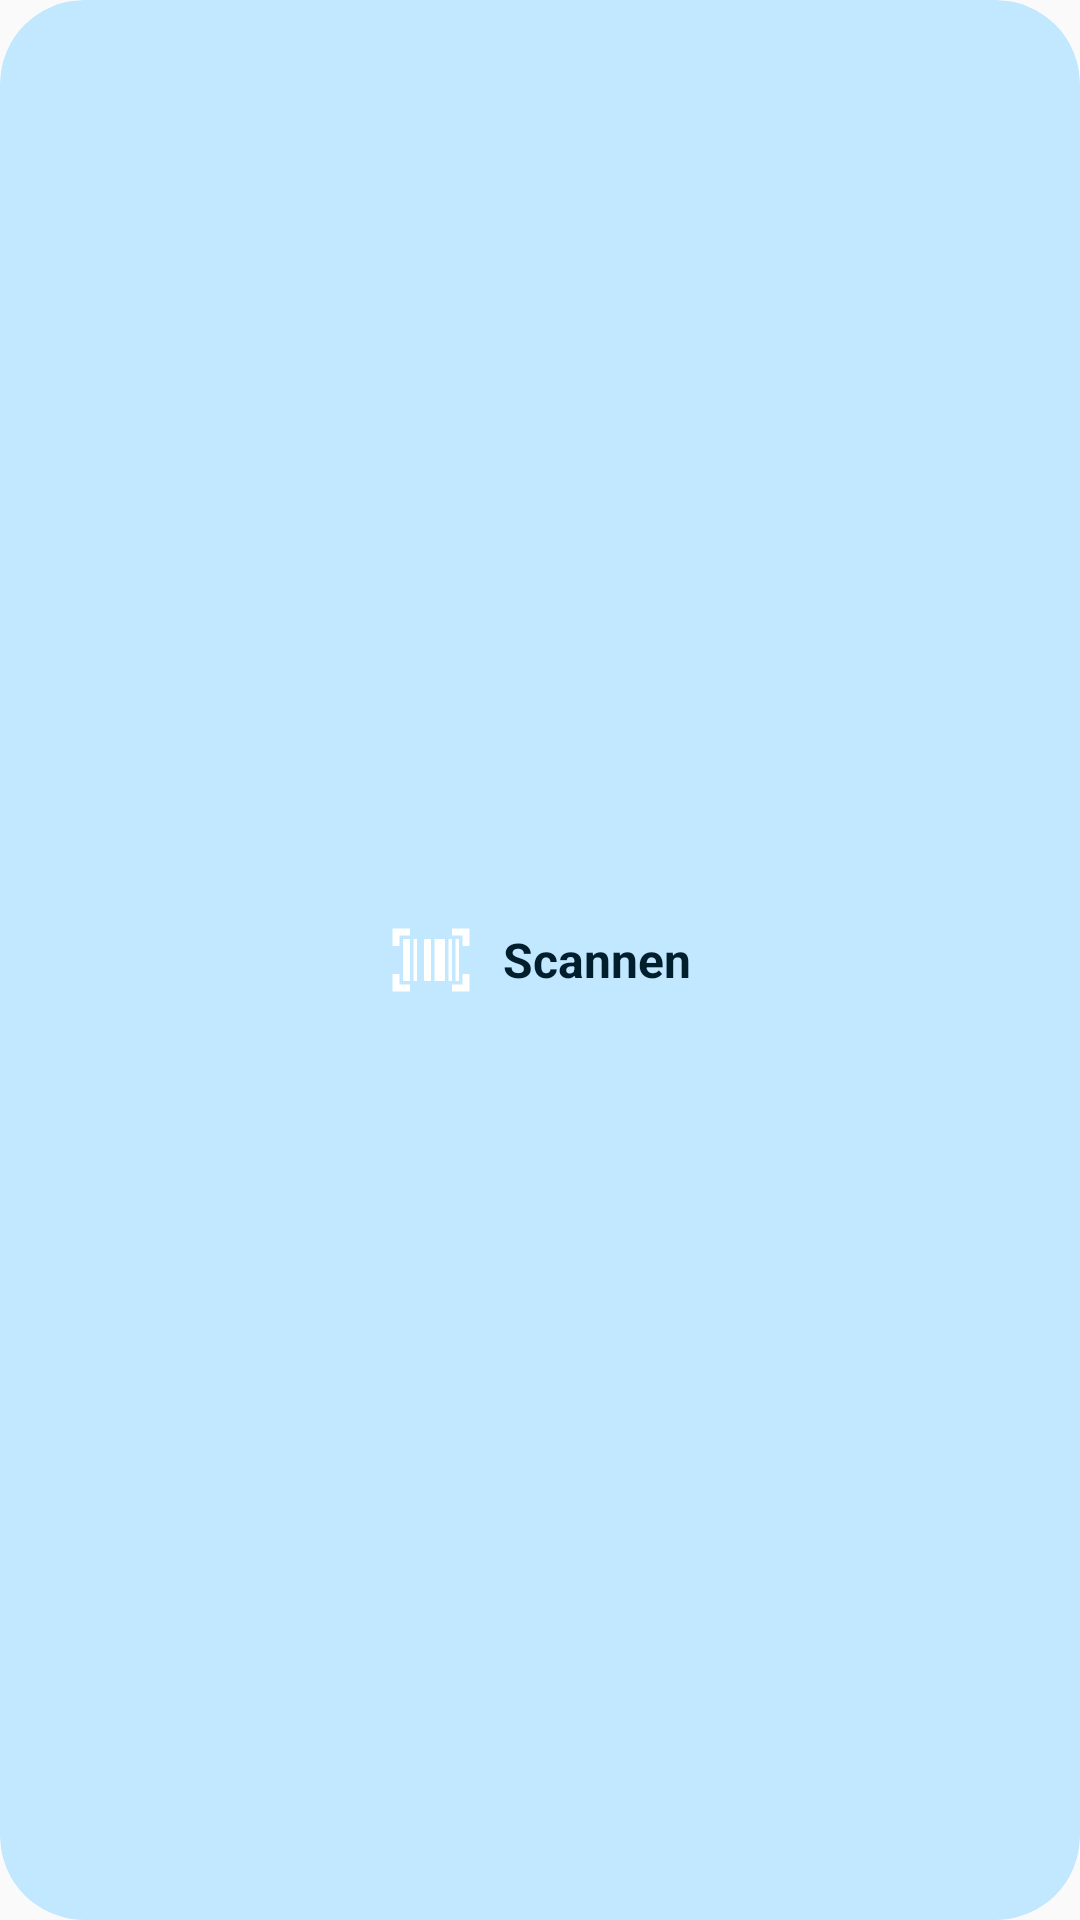

Where icons sit on this 1080w x 1920h app screen, as (x1, y1, x2, y2):
widget scan: (392, 928, 470, 992)
